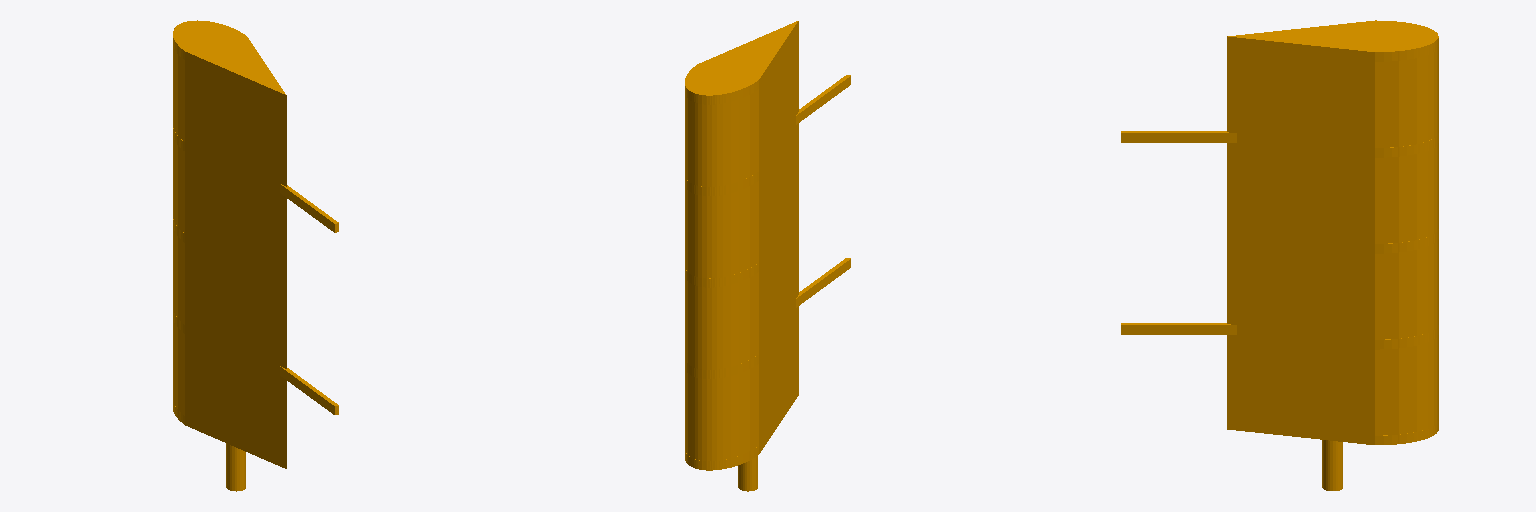
robot.urdf — sailboat:
<?xml version="1.0"?>
<!--  ==========================================================================================  -->
<!--  |    This document was autogenerated by scene_to_spawner from sailboat.xacro             |  -->
<!--  |    EDITING THIS FILE BY HAND IS NOT RECOMMENDED                                        |  -->
<!--  ==========================================================================================  -->
<robot xmlns:xacro="http://www.ros.org/wiki/xacro" name="sailboat">
  <link name="base_link">
    <visual>
      <origin rpy="0 0 0" xyz="0 0 0"/>
      <geometry>
        <mesh filename="meshes/simpleHull3/base_link.obj" scale="0.3 0.3 0.3"/>
      </geometry>
    </visual>
    </link>
  <link name="center_r_link">
    <visual>
      <origin rpy="0 0 0" xyz="0 0 0.0"/>
      <geometry>
        <mesh filename="meshes/simpleHull3/centerRight.obj" scale="0.3 0.3 0.3"/>
      </geometry>
    </visual>
    </link>
  <joint name="center_r_joint" type="revolute">
    <parent link="base_link"/>
    <child link="center_r_link"/>
    <origin rpy="0 0 0" xyz="0 0 0"/>
    <limit effort="50" lower="0" upper="0" velocity="5"/>
    <dynamics damping="1.0"/>
    <axis xyz="1 0 0"/>
  </joint>
  <link name="back_l_link">
    <visual>
      <origin rpy="0 0 0" xyz="0 0 0"/>
      <geometry>
        <mesh filename="meshes/simpleHull3/backLeft.obj" scale="0.3 0.3 0.3"/>
      </geometry>
    </visual>
    </link>
  <joint name="back_l_joint" type="revolute">
    <parent link="base_link"/>
    <child link="back_l_link"/>
    <origin rpy="0 0 0" xyz="-0.15 0.117 0"/>
    <limit effort="50" lower="0" upper="0" velocity="5"/>
    <dynamics damping="1.0"/>
    <axis xyz="1 0 0"/>
  </joint>
  <link name="back_r_link">
    <visual>
      <origin rpy="0 0 0" xyz="0 0 0"/>
      <geometry>
        <mesh filename="meshes/simpleHull3/backRight.obj" scale="0.3 0.3 0.3"/>
      </geometry>
    </visual>
    </link>
  <joint name="back_r_joint" type="revolute">
    <parent link="base_link"/>
    <child link="back_r_link"/>
    <origin rpy="0 0 0" xyz="-0.15 -0.117 0"/>
    <limit effort="50" lower="0" upper="0" velocity="5"/>
    <dynamics damping="1.0"/>
    <axis xyz="1 0 0"/>
  </joint>
  <link name="front_l_link">
    <visual>
      <origin rpy="0 0 0" xyz="0 0 0"/>
      <geometry>
        <mesh filename="meshes/simpleHull3/frontLeft.obj" scale="0.3 0.3 0.3"/>
      </geometry>
    </visual>
    </link>
  <joint name="front_l_joint" type="revolute">
    <parent link="base_link"/>
    <child link="front_l_link"/>
    <origin rpy="0 0 0" xyz="0.39 0.06 0"/>
    <limit effort="50" lower="0" upper="0" velocity="5"/>
    <dynamics damping="1.0"/>
    <axis xyz="1 0 0"/>
  </joint>
  <link name="front_r_link">
    <visual>
      <origin rpy="0 0 0" xyz="0 0 0"/>
      <geometry>
        <mesh filename="meshes/simpleHull3/frontRight.obj" scale="0.3 0.3 0.3"/>
      </geometry>
    </visual>
    </link>
  <joint name="front_r_joint" type="revolute">
    <parent link="base_link"/>
    <child link="front_r_link"/>
    <origin rpy="0 0 0" xyz="0.39 -0.06 0"/>
    <limit effort="50" lower="0" upper="0" velocity="5"/>
    <dynamics damping="1.0"/>
    <axis xyz="1 0 0"/>
  </joint>
  <joint name="hokuyo_joint" type="fixed">
    <axis xyz="0 1 0"/>
    <origin rpy="0 0 0" xyz="0.7 0 0.2"/>
    <parent link="base_link"/>
    <child link="hokuyo_link"/>
  </joint>
  <link name="hokuyo_link">
    <visual name="visual">
      <origin rpy="0 0 0" xyz="0 0 0"/>
      <geometry>
        <mesh filename="meshes/simpleHull3/box.obj" scale="0.1 0.1 0.1"/>
      </geometry>
    </visual>
    </link>
  <link name="rudder">
    <visual name="visual">
      <geometry>
        <mesh filename="meshes/simpleHull3/box.obj" scale="0.06 0.006 0.09"/>
      </geometry>
      <origin rpy="0 0 0" xyz="-0.03 0 0"/>
    </visual>
  </link>
  <joint name="rudder_joint" type="revolute">
    <parent link="back_r_link"/>
    <child link="rudder"/>
    <origin rpy="0 0 0" xyz="-0.42 0.117 -0.15"/>
    <dynamics damping="1.0"/>
    <axis xyz="0 0 1"/>
    <limit effort="100" lower="-1.57079632679" upper="1.57079632679" velocity="5"/>
  </joint>
  <link name="sail">
    <visual name="visual">
      <geometry>
        <mesh filename="meshes/simpleHull3/wingsail2.obj" scale="0.1 0.1 0.1"/>
      </geometry>
      <origin rpy="0 0 0" xyz="0 0 0"/>
    </visual>
  </link>
  <joint name="sail_joint" type="revolute">
    <parent link="base_link"/>
    <child link="sail"/>
    <origin rpy="0 0 0" xyz="0.2 0 0.1"/>
    <dynamics damping="1.0"/>
    <axis xyz="0 0 1"/>
    <limit effort="100" lower="-3.14159265359" upper="3.14159265359" velocity="70"/>
  </joint>
  <link name="keel">
    <visual name="visual">
      <geometry>
        <mesh filename="meshes/simpleHull3/box.obj" scale="0.25 0.02 0.5"/>
      </geometry>
      <origin rpy="0 0 0" xyz="0 0 0"/>
    </visual>
  </link>
  <joint name="keel_joint" type="revolute">
    <parent link="base_link"/>
    <child link="keel"/>
    <origin rpy="0 0 0" xyz="0 0 -0.35"/>
    <dynamics damping="1.0"/>
    <axis xyz="0 0 1"/>
    <limit effort="30" lower="0" upper="0" velocity="5"/>
  </joint>
  </robot>

--- Facts derived from the render (not from the file) ---
The picture shows the robot from 3 angles, left to right: view 1: azimuth 30°, elevation 25°; view 2: azimuth 150°, elevation 25°; view 3: azimuth 270°, elevation 25°; orthographic projection.
Robot: sailboat — 10 links, 9 joints (8 revolute, 1 fixed); root link base_link; default pose: all joints at 0.
Visible links, largest first — view 1: sail; view 2: sail; view 3: sail.
Boxes of the visible links, x1=… form: sail: x1=173, y1=20, x2=338, y2=491; sail: x1=685, y1=21, x2=850, y2=491; sail: x1=1121, y1=20, x2=1438, y2=490.
Bounding box of the posed robot: 0.3565 × 1.5 × 2.35 m (x, y, z).
Meshes: 8 distinct files referenced, 1 mesh visuals loaded (1 OBJ); not drawn: 9 (reference not matched to a file when rendering).